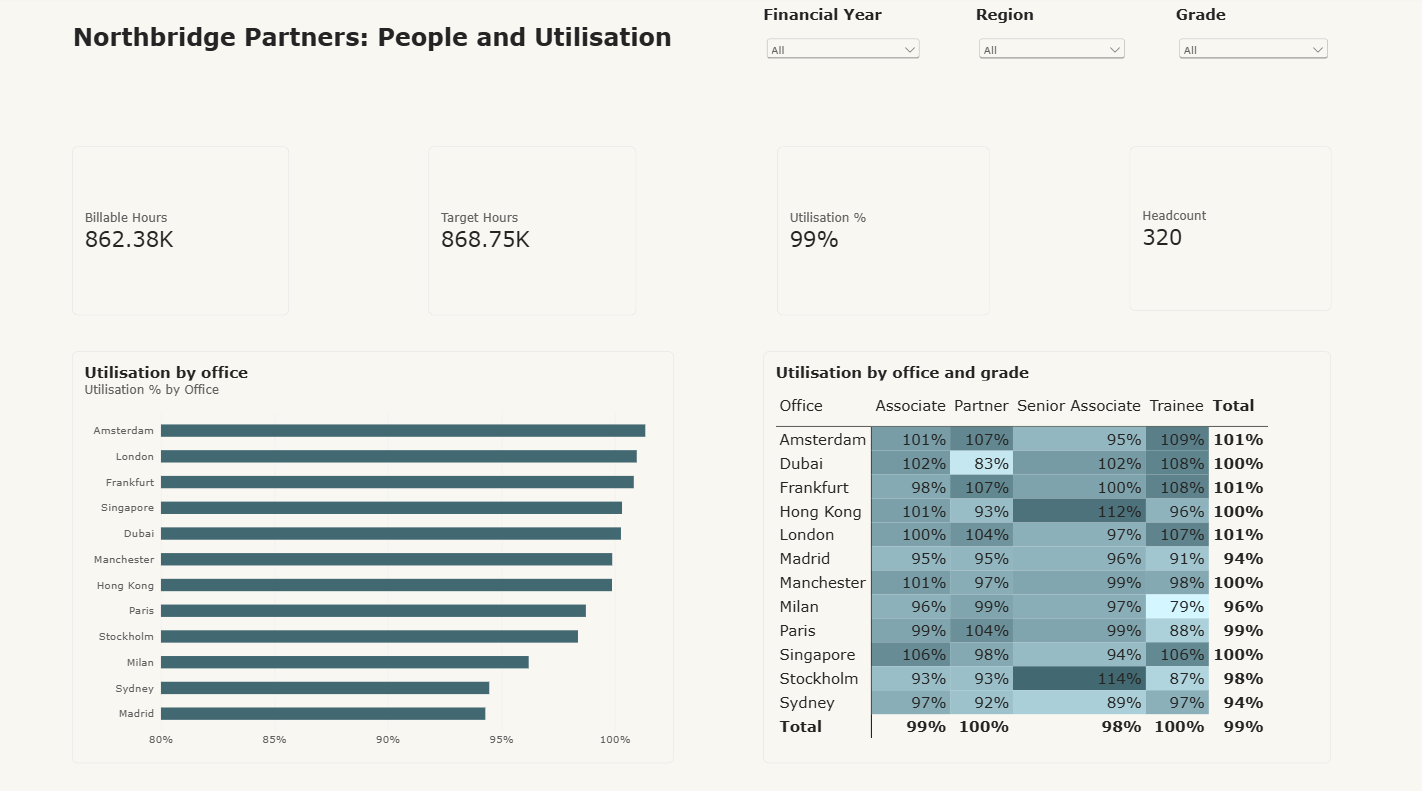

The dashboard page shown, as its layout file describes it:
{"tool":"powerbi","page":{"name":"People and utilisation","canvas":[1920,1080],"ordinal":1},"visuals":[{"type":"textbox","box":[44,36,916,130],"z":1000},{"type":"slicer","title":"Financial Year","fields":{"Values":["dim_date.FinancialYear"]},"box":[1024,14,214.1,152.3],"z":2000},{"type":"slicer","title":"Region","fields":{"Values":["dim_office.Region"]},"box":[1308,14,204,152],"z":3000},{"type":"slicer","title":"Grade","fields":{"Values":["dim_lawyer.Grade"]},"box":[1574,14,208,152],"z":4000},{"type":"cardVisual","fields":{"Data":["_Measures.Billable Hours"]},"box":[100,202,290,226],"z":5000},{"type":"cardVisual","fields":{"Data":["_Measures.Target Hours"]},"box":[576.7,202,278,226],"z":6000},{"type":"cardVisual","fields":{"Data":["_Measures.Utilisation %"]},"box":[1041.3,202,284,226],"z":7000},{"type":"cardVisual","fields":{"Data":["_Measures.Headcount"]},"box":[1512,202,270,220],"z":8000},{"type":"clusteredBarChart","title":"Utilisation by office","fields":{"Category":["dim_office.Office"],"Y":["_Measures.Utilisation %"]},"box":[100,476,804,550],"z":9000},{"type":"pivotTable","title":"Utilisation by office and grade","fields":{"Columns":["dim_lawyer.Grade"],"Rows":["dim_office.Office"],"Values":["_Measures.Utilisation %"]},"box":[1024,476,758,550],"z":10000}]}

Visuals, with their boxes in screenshot pixels (x1, y1, x2, y2), scaled from the page's 1920x1080 canvas onto the 1422x791 screenshot:
textbox: l=33, t=26, r=711, b=122
"Financial Year" slicer: l=758, t=10, r=917, b=122
"Region" slicer: l=969, t=10, r=1120, b=122
"Grade" slicer: l=1166, t=10, r=1320, b=122
cardVisual - _Measures.Billable Hours: l=74, t=148, r=289, b=313
cardVisual - _Measures.Target Hours: l=427, t=148, r=633, b=313
cardVisual - _Measures.Utilisation %: l=771, t=148, r=982, b=313
cardVisual - _Measures.Headcount: l=1120, t=148, r=1320, b=309
"Utilisation by office" clusteredBarChart: l=74, t=349, r=670, b=751
"Utilisation by office and grade" pivotTable: l=758, t=349, r=1320, b=751
